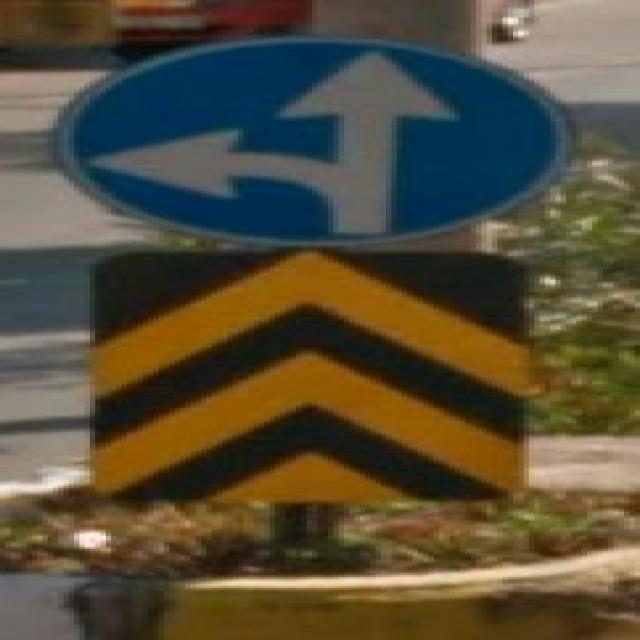Straight or Left: (56, 39, 575, 243)
